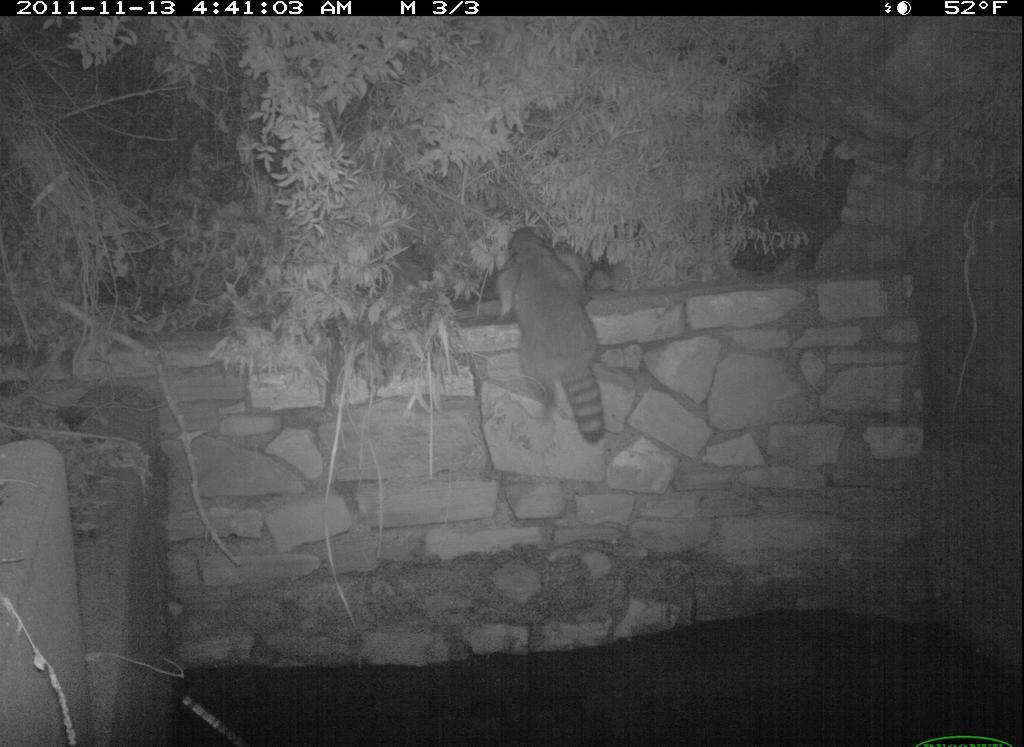raccoon: (486, 217, 629, 443)
